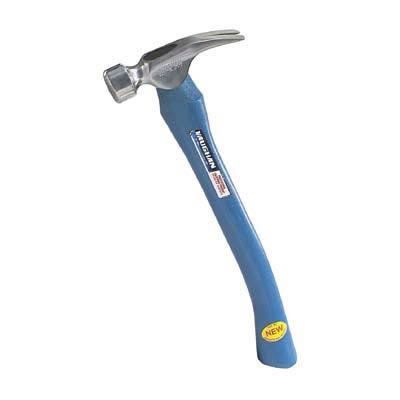hammer: (99, 26, 299, 368)
